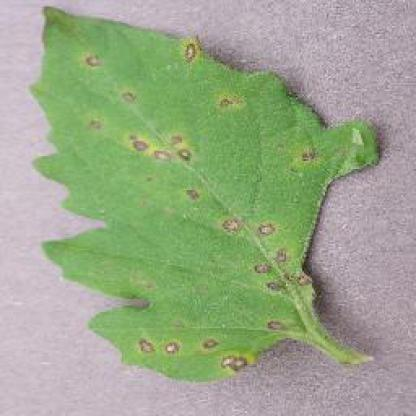bad leaf: (221, 214, 316, 302), (76, 106, 204, 171), (143, 332, 286, 368), (285, 134, 331, 168), (180, 37, 208, 74), (182, 188, 208, 210), (223, 91, 247, 114), (79, 53, 106, 73)
